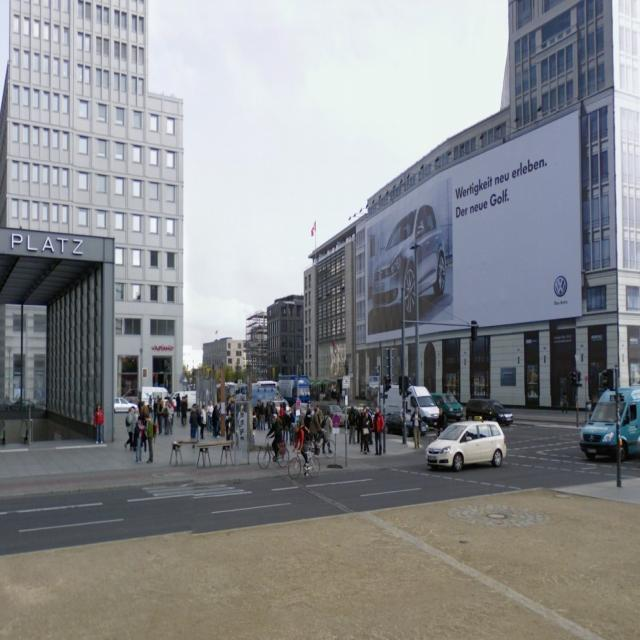Werbetafel frei: (362, 100, 588, 348)
